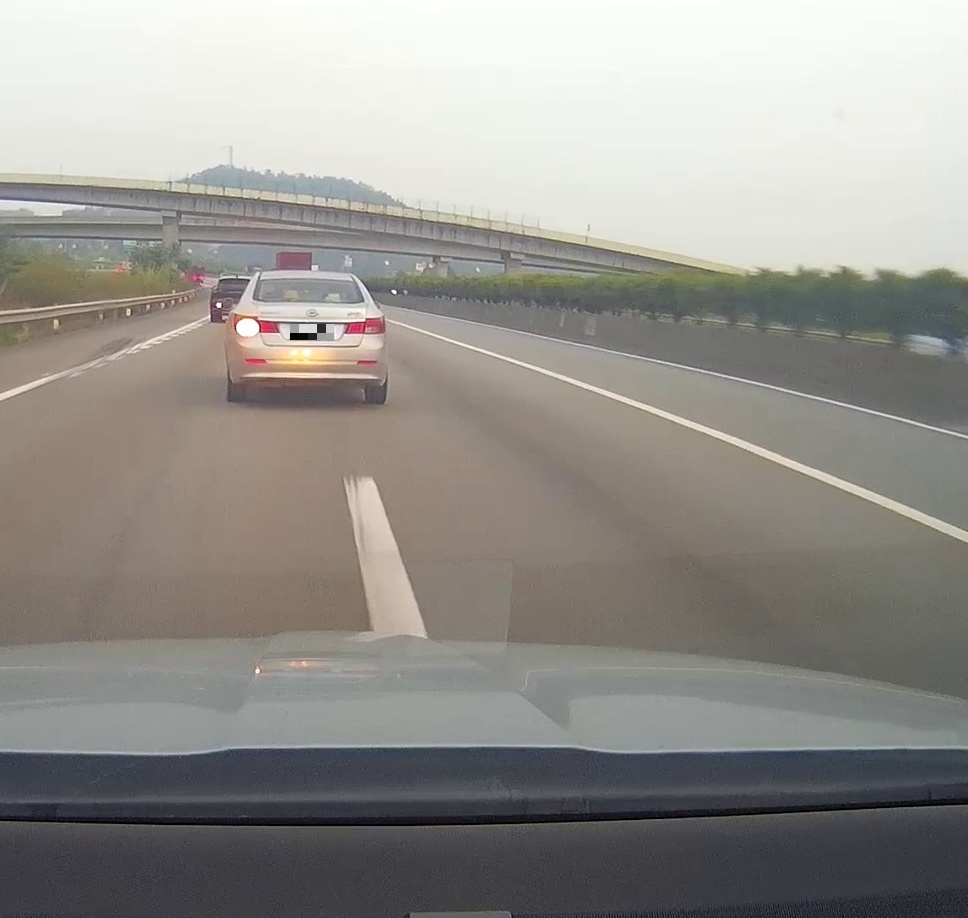L_light: (231, 313, 280, 333)
R_light: (345, 315, 385, 334)
T_light: (301, 277, 318, 280)
day-left: (226, 270, 388, 404)
plate_1: (290, 324, 334, 340)
